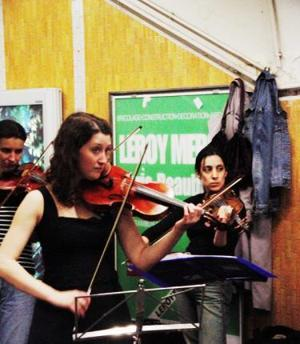person: (2, 114, 204, 344)
